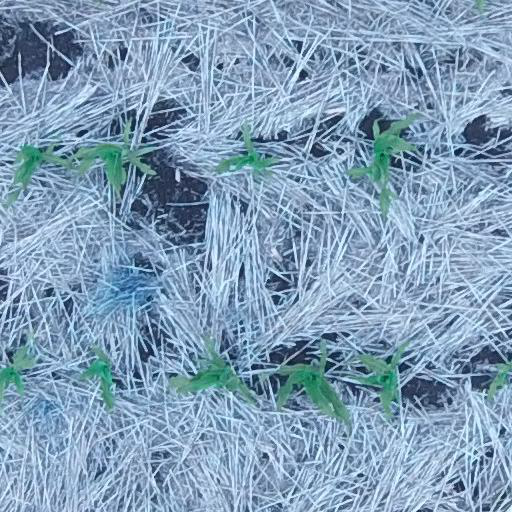planta: (344, 110, 422, 222), (66, 119, 159, 200), (272, 338, 354, 428), (165, 330, 258, 406), (343, 341, 408, 422), (6, 137, 74, 204), (212, 118, 281, 178), (75, 343, 118, 413)
